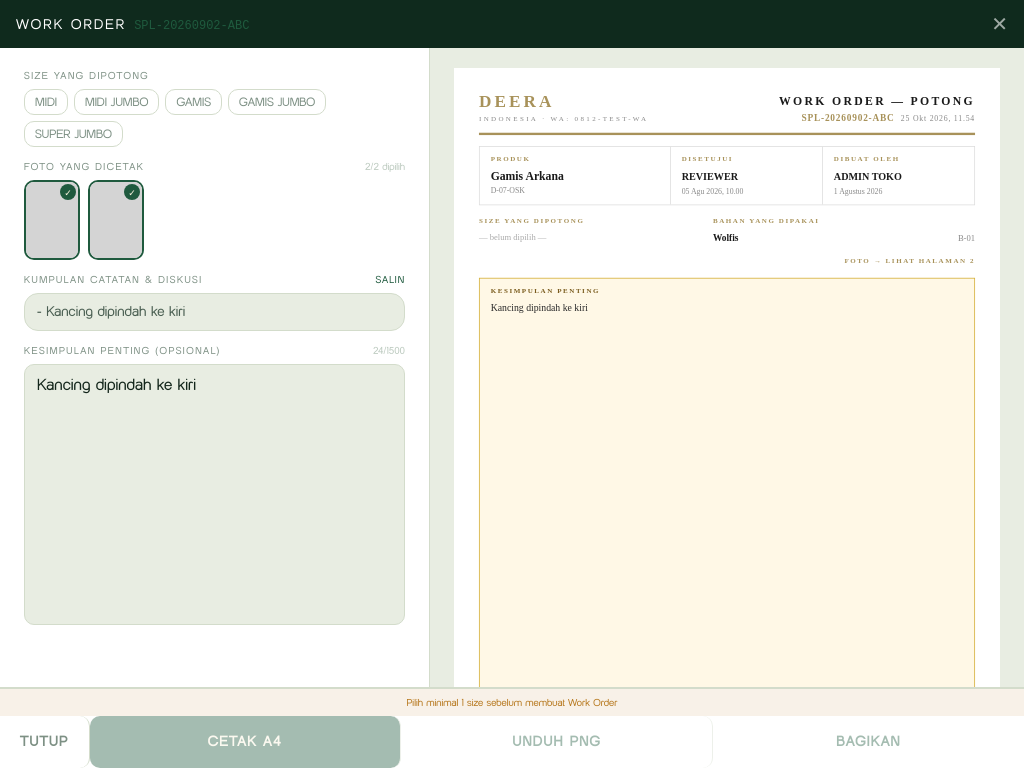
Test: WorkOrderModal (permintaan Denny 2026-09: Work Order untuk tukang potong) › memilih size mengaktifkan tombol Unduh/Bagikan
The width and height of the screenshot is (1024, 768).
Step 1. Click the button "Midi" → [46, 102], box [24,89,68,115]
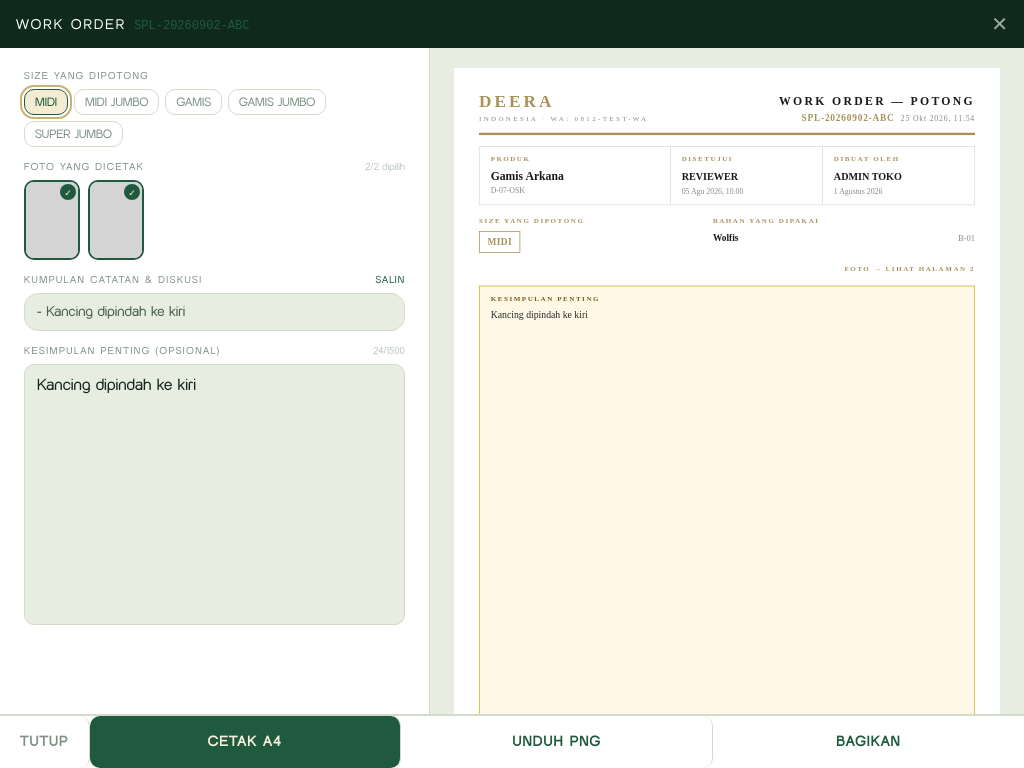
Now the button "Unduh PNG" is enabled, box [401,716,713,767]
Now the text "Pilih minimal 1 size" is gone
